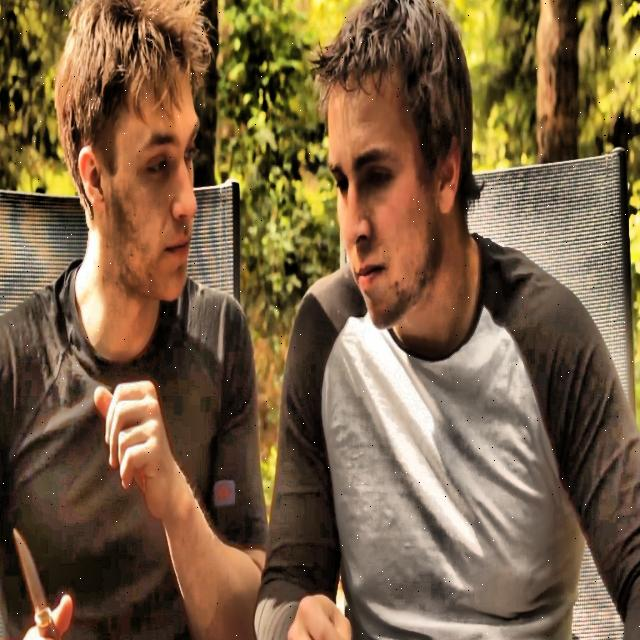knife: (14, 529, 56, 640)
